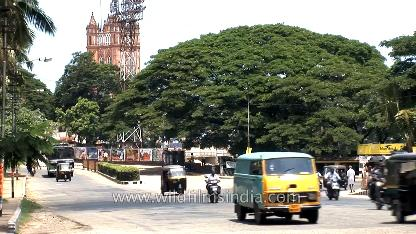auto-rikshaw: (158, 164, 190, 196), (54, 160, 74, 186)
bike: (200, 167, 223, 205), (324, 162, 344, 202)
car: (232, 150, 324, 222)
priority: (46, 143, 76, 175)
